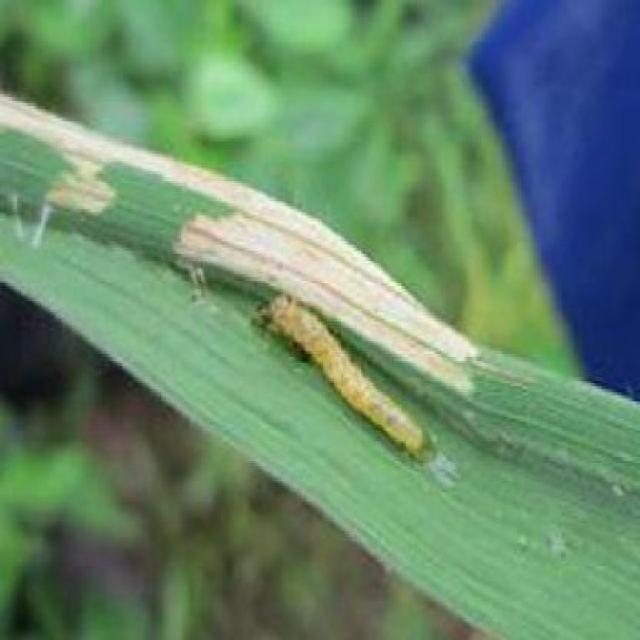leaf-folder: (258, 282, 450, 466)
